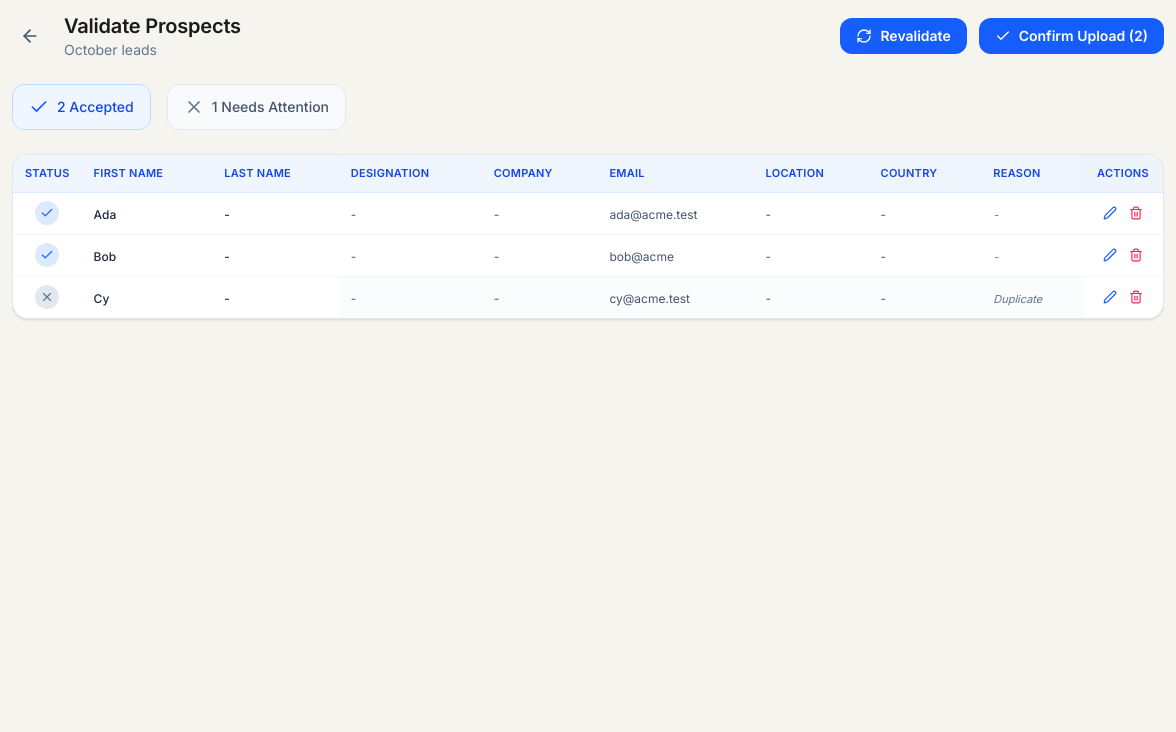
ProspectValidate confirm › says nothing was added when the database refused every row, and allows another try
The image size is (1176, 732).
What coordinates should you click on to do the following:
click the button "Confirm Upload (2)"
I would click on:
 (1071, 36)
Its box is left=979, top=18, right=1164, bottom=54.
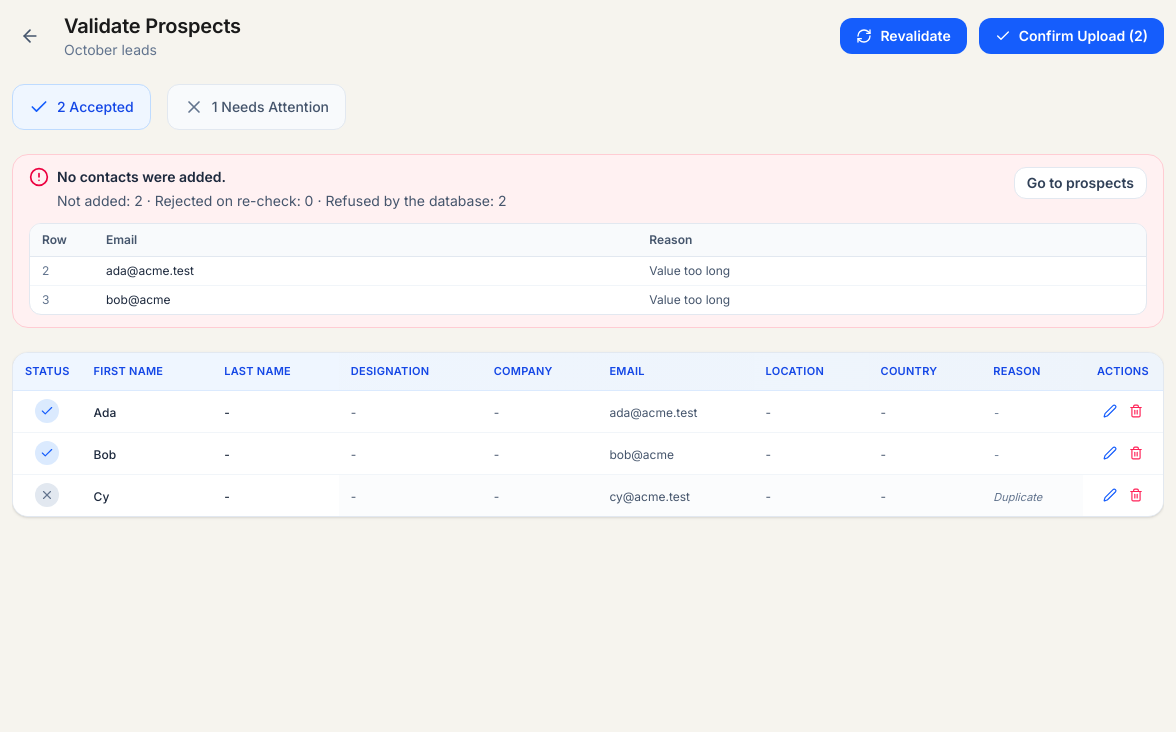
Expected: the text "No contacts were added." is shown, left=57, top=168, right=226, bottom=185
Expected: the text "Refused by the database: 2" is shown, left=57, top=191, right=506, bottom=211
Expected: the text "Value too long" is shown 2 times, left=637, top=257, right=1146, bottom=286; left=637, top=286, right=1146, bottom=314
